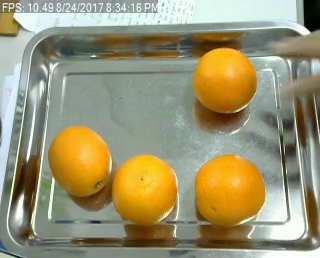Orange: (193, 153, 264, 226), (112, 153, 179, 226), (49, 124, 112, 198), (192, 47, 258, 113)
